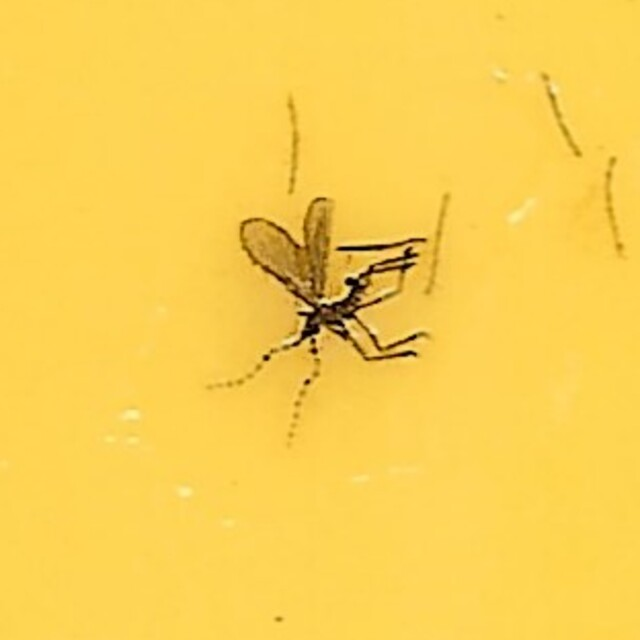Nematocera: (205, 204, 435, 436)
